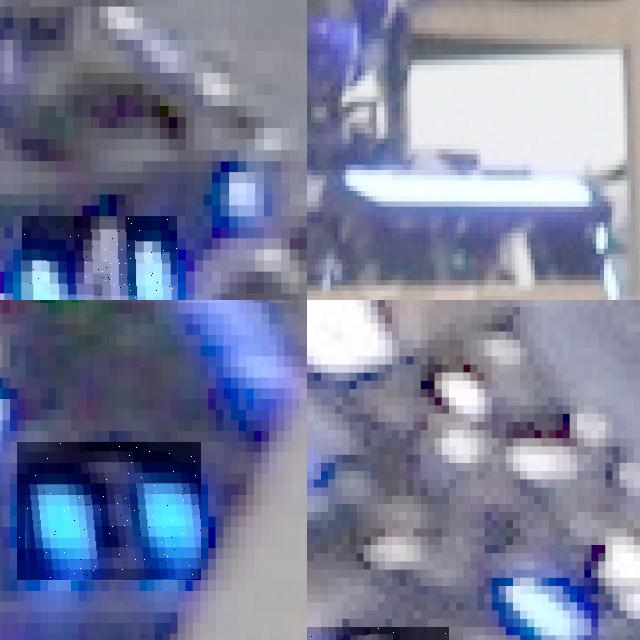B3: (17, 442, 201, 580)
B4: (21, 216, 177, 300)
